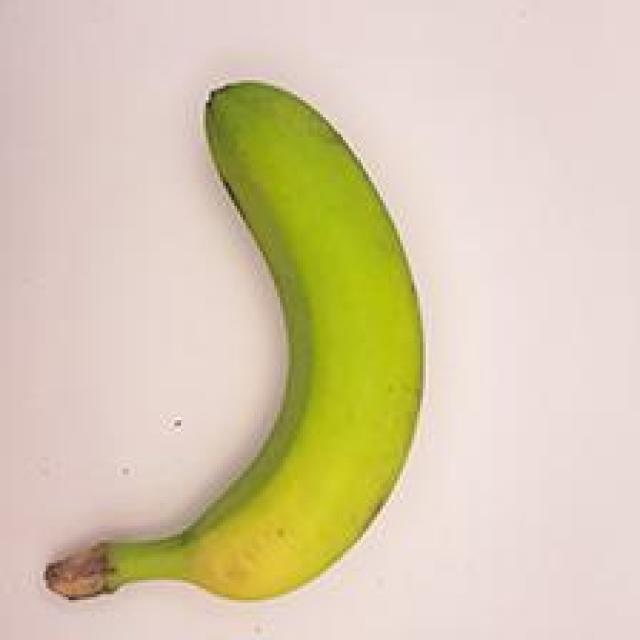Unripe: (3, 65, 472, 631)
